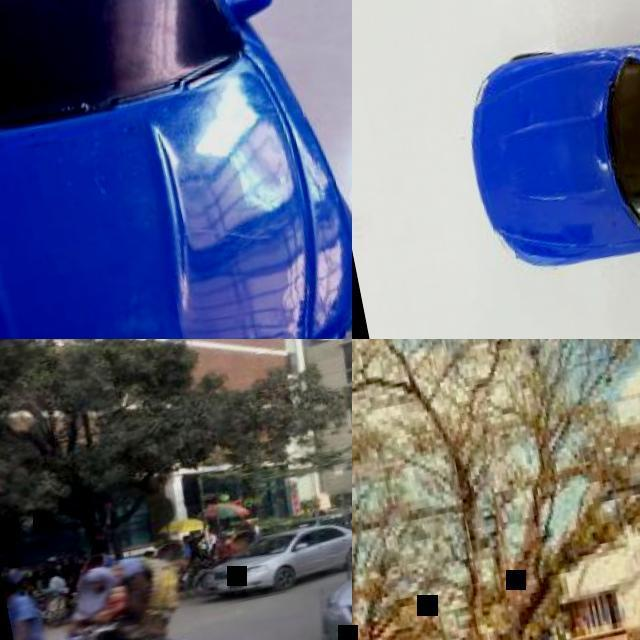car: (231, 514, 354, 590), (70, 559, 154, 639)
